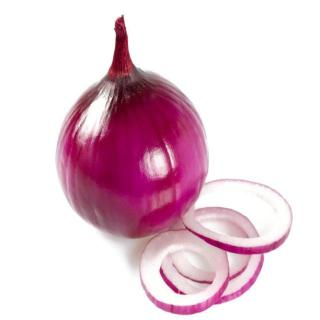Bawang Merah: (54, 15, 212, 242)
